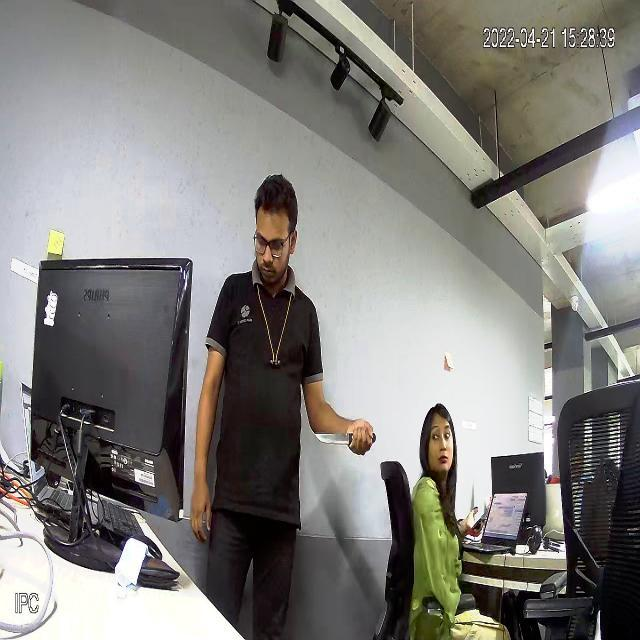Knife: (314, 422, 383, 453)
